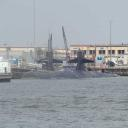submarine: (19, 51, 123, 79)
